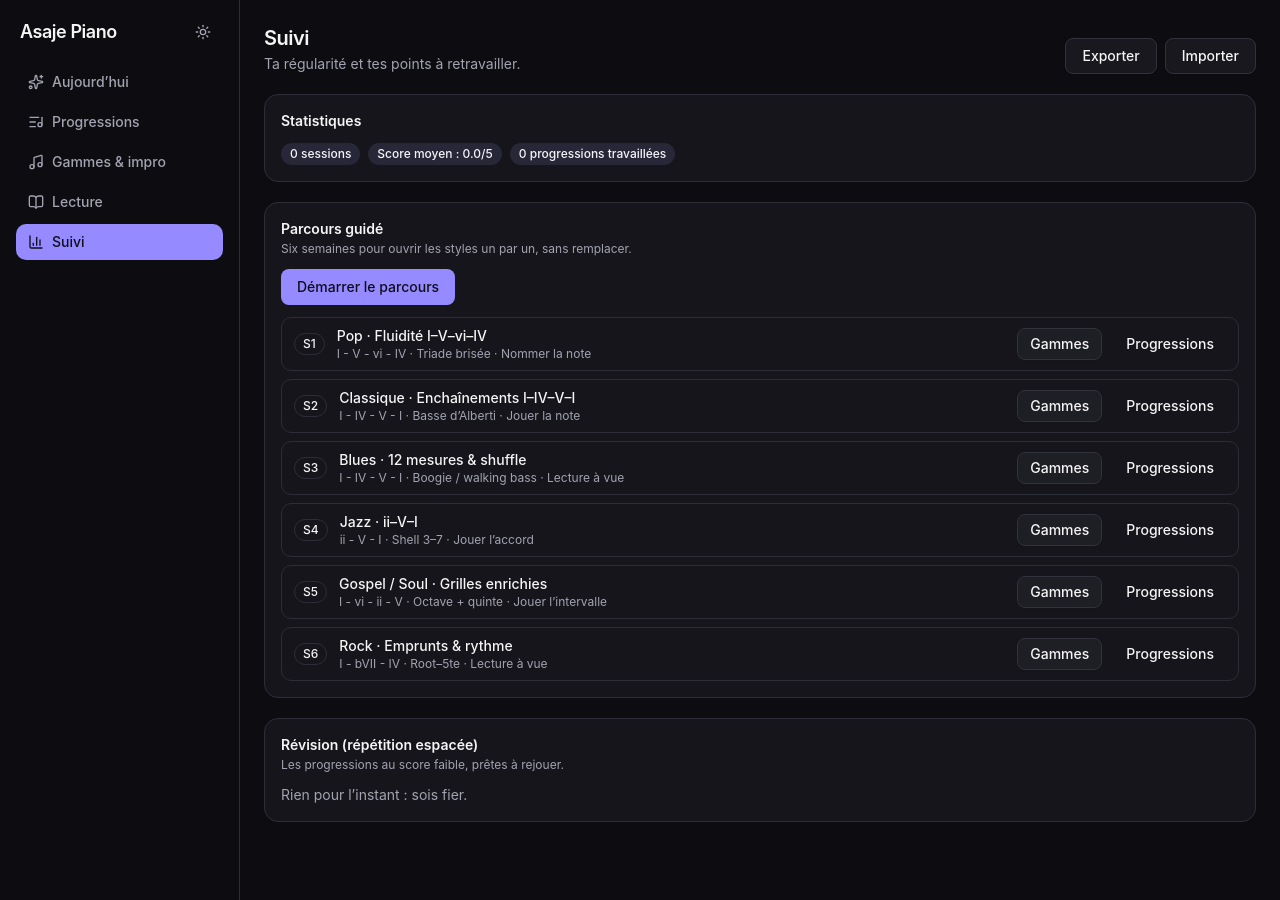
it: App › shows the style of the day in the scales module
Click the button "Gammes & impro" at (120, 162), box [16,144,223,180]
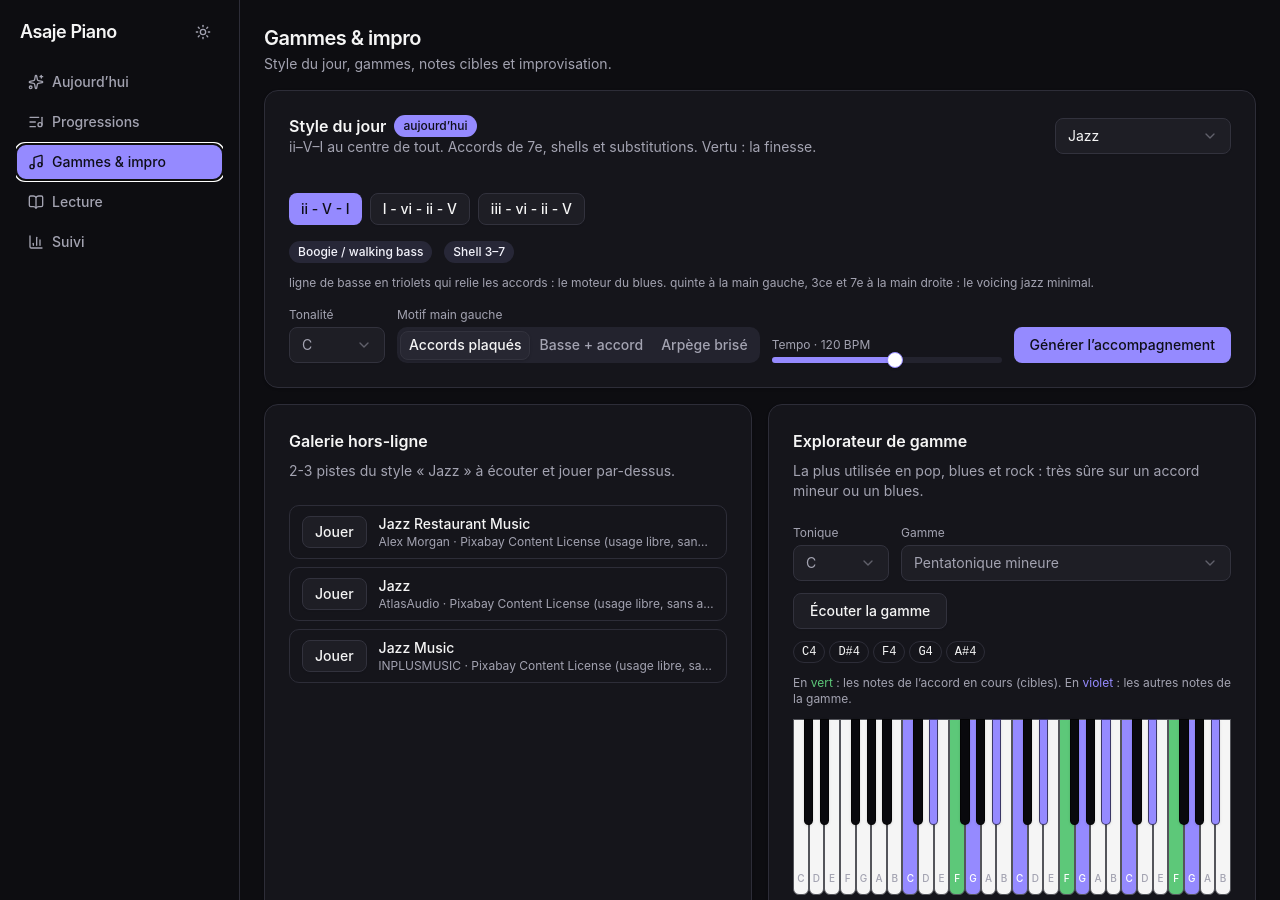
Check: the text "Style du jour" is shown, box [289,116,386,136]
